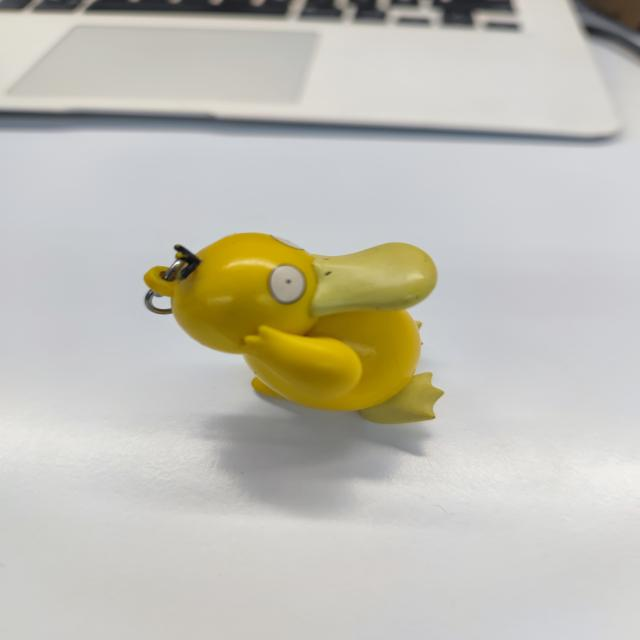Duck: (115, 213, 478, 436)
